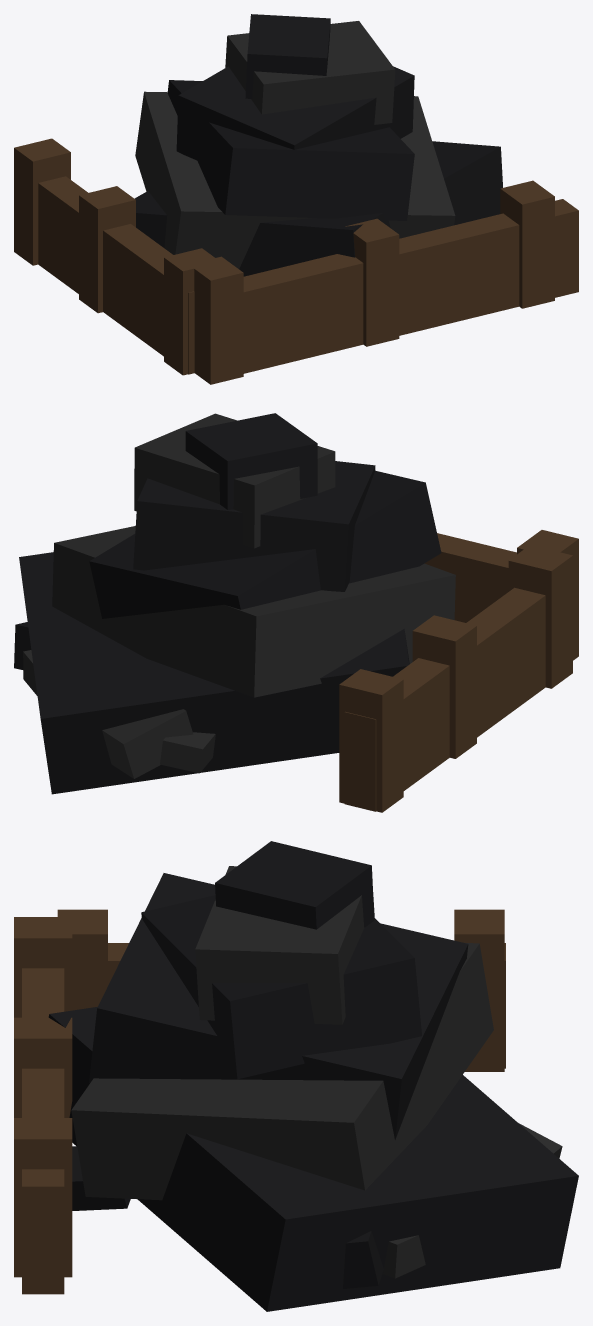
The model's file is coal_pile.glb.
3 views of the same model, one above another, from view 1: azimuth 30°, elevation 25°; view 2: azimuth 150°, elevation 25°; view 3: azimuth 270°, elevation 25° (orthographic). The views are drawn at different scales.
Visible parts, largest first — view 1: Cube.013, Cube.002, Cube.001, Cube.012, Cube, Cube.003, Cube.004, Cube.014, Cube.016, Cube.005, Cube.015, Cube.019 (+2 smaller); view 2: Cube, Cube.001, Cube.002, Cube.012, Cube.003, Cube.004, Cube.005, Cube.019, Cube.018, Cube.017, Cube.013, Cube.010 (+3 smaller); view 3: Cube, Cube.001, Cube.002, Cube.003, Cube.004, Cube.005, Cube.013, Cube.016, Cube.019, Cube.014, Cube.015, Cube.017 (+4 smaller).
Part boxes in pixels (x1=…): Cube.013: x1=243, y1=199, x2=578, y2=373; Cube.002: x1=167, y1=80, x2=414, y2=220; Cube.001: x1=135, y1=91, x2=455, y2=268; Cube.012: x1=38, y1=176, x2=194, y2=374; Cube: x1=134, y1=141, x2=502, y2=276; Cube.003: x1=176, y1=66, x2=414, y2=160; Cube.004: x1=225, y1=21, x2=395, y2=124; Cube.014: x1=189, y1=256, x2=243, y2=384; Cube.016: x1=500, y1=180, x2=554, y2=308; Cube.005: x1=245, y1=14, x2=330, y2=98; Cube.015: x1=345, y1=218, x2=399, y2=346; Cube.019: x1=14, y1=138, x2=70, y2=265; Cube: x1=19, y1=552, x2=409, y2=794; Cube.001: x1=52, y1=526, x2=455, y2=697; Cube.002: x1=89, y1=470, x2=441, y2=618; Cube.012: x1=344, y1=587, x2=545, y2=811; Cube.003: x1=133, y1=461, x2=375, y2=591; Cube.004: x1=134, y1=413, x2=335, y2=548; Cube.005: x1=185, y1=413, x2=317, y2=509; Cube.019: x1=339, y1=669, x2=403, y2=812; Cube.018: x1=412, y1=615, x2=476, y2=758; Cube.017: x1=508, y1=545, x2=572, y2=688; Cube.013: x1=424, y1=533, x2=516, y2=622; Cube.010: x1=102, y1=709, x2=193, y2=778; Cube: x1=48, y1=1007, x2=578, y2=1311; Cube.001: x1=71, y1=942, x2=493, y2=1200; Cube.002: x1=89, y1=873, x2=468, y2=1139; Cube.003: x1=141, y1=895, x2=421, y2=1079; Cube.004: x1=195, y1=866, x2=374, y2=1024; Cube.005: x1=215, y1=841, x2=374, y2=929; Cube.013: x1=22, y1=968, x2=64, y2=1294; Cube.016: x1=14, y1=1118, x2=72, y2=1277; Cube.019: x1=454, y1=909, x2=504, y2=1071; Cube.014: x1=14, y1=917, x2=72, y2=1017; Cube.015: x1=14, y1=1017, x2=72, y2=1117; Cube.017: x1=57, y1=909, x2=107, y2=1010.
Bounding box in the file's own units: 46.7 × 29.07 × 42.73.
